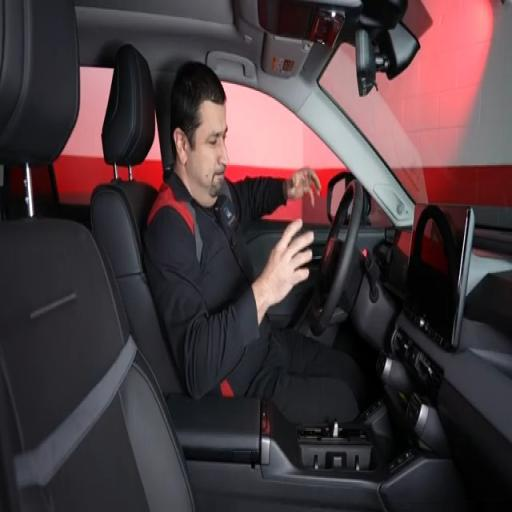side_mirror: (377, 23, 419, 79), (327, 171, 354, 221), (356, 29, 376, 96), (327, 173, 351, 221)
window: (224, 83, 345, 224)
windshield: (320, 0, 511, 206)
